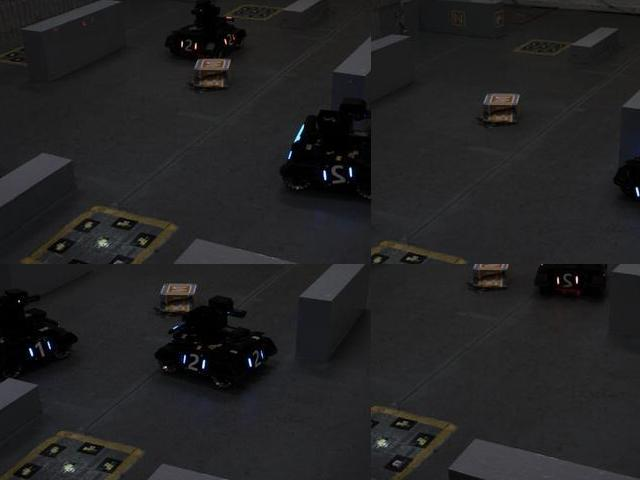armor: (319, 166, 355, 190), (22, 337, 54, 363), (179, 348, 208, 376), (553, 271, 584, 292), (245, 344, 266, 374), (176, 35, 200, 58), (219, 30, 238, 49), (633, 173, 639, 204)
